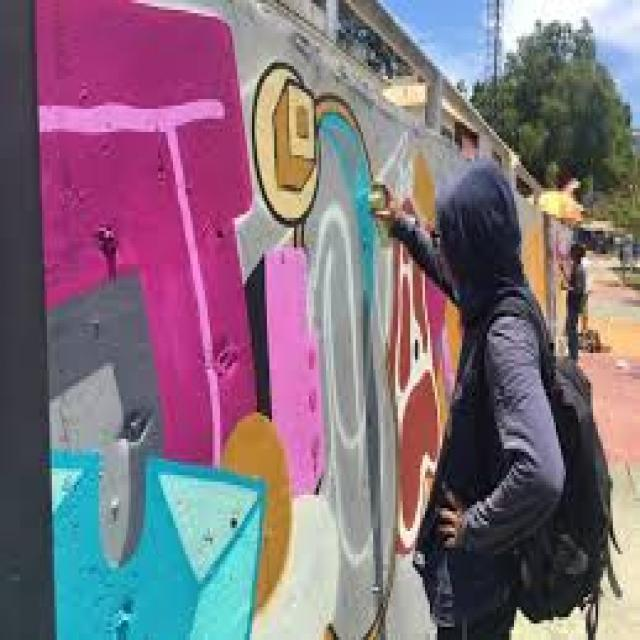-: (34, 0, 340, 640), (291, 90, 401, 640), (386, 148, 444, 557)
